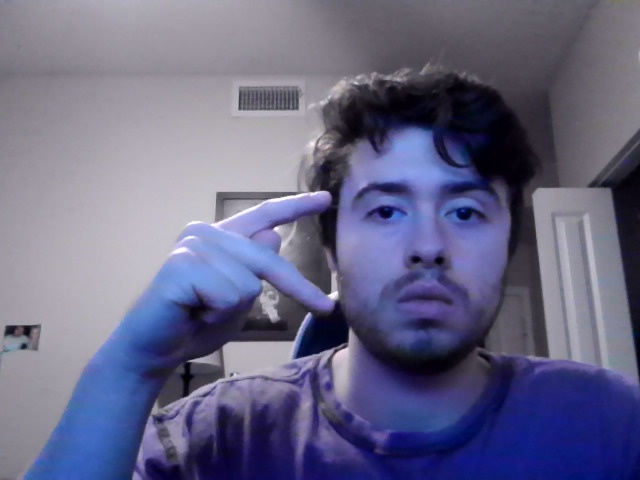p: (106, 189, 336, 387)
